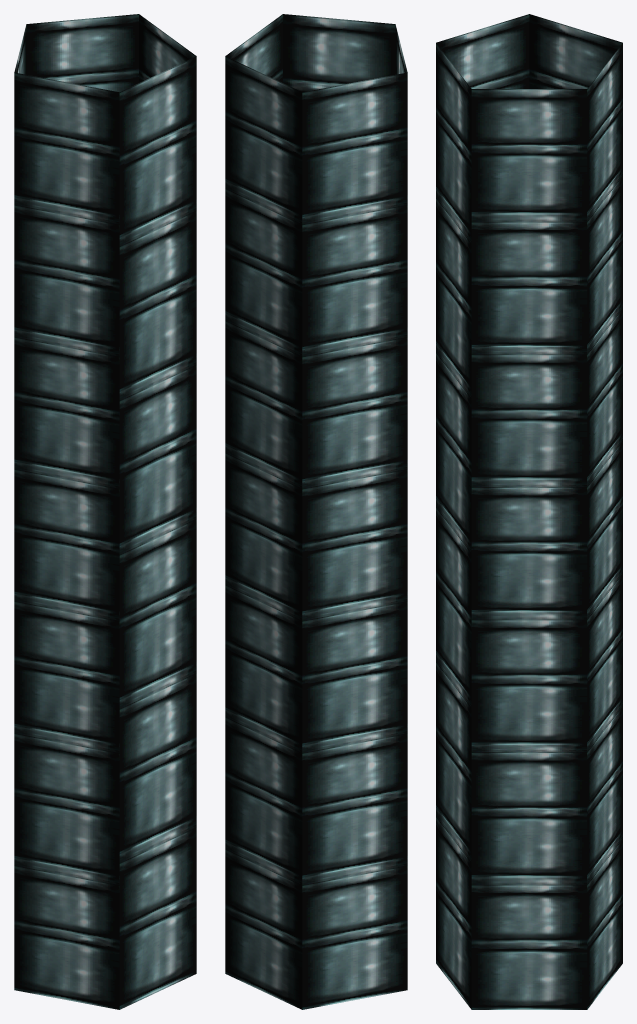
Rendered from Stütze_GroßRohr_1440.glb.
The picture shows the model from 3 angles, left to right: view 1: azimuth 30°, elevation 25°; view 2: azimuth 150°, elevation 25°; view 3: azimuth 270°, elevation 25°; orthographic projection.
Parts seen in each view (by area): view 1: pPlaneShape17, pPlaneShape13, pPlaneShape15, pPlaneShape14; view 2: pPlaneShape16, pPlaneShape15, pPlaneShape13, pPlaneShape14; view 3: pPlaneShape14, pPlaneShape13, pPlaneShape15, pPlaneShape16, pPlaneShape17.
Part boxes in pixels (x1,y1,x2,y2): pPlaneShape17: (14, 72, 119, 1009); pPlaneShape13: (119, 56, 196, 1009); pPlaneShape15: (26, 14, 138, 92); pPlaneShape14: (139, 14, 196, 82); pPlaneShape16: (302, 72, 407, 1009); pPlaneShape15: (225, 56, 302, 1009); pPlaneShape13: (283, 14, 395, 92); pPlaneShape14: (225, 14, 282, 82); pPlaneShape14: (471, 89, 587, 1009); pPlaneShape13: (436, 43, 471, 1009); pPlaneShape15: (587, 43, 622, 1009); pPlaneShape16: (529, 14, 622, 88); pPlaneShape17: (436, 14, 529, 88).
Size of the model in its own units: 1.07 by 6.1 by 1.12.
5 materials, 5 textured.
